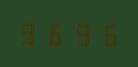nine: (68, 19, 92, 47), (18, 19, 42, 46)
six: (43, 19, 67, 46), (93, 20, 117, 47)
